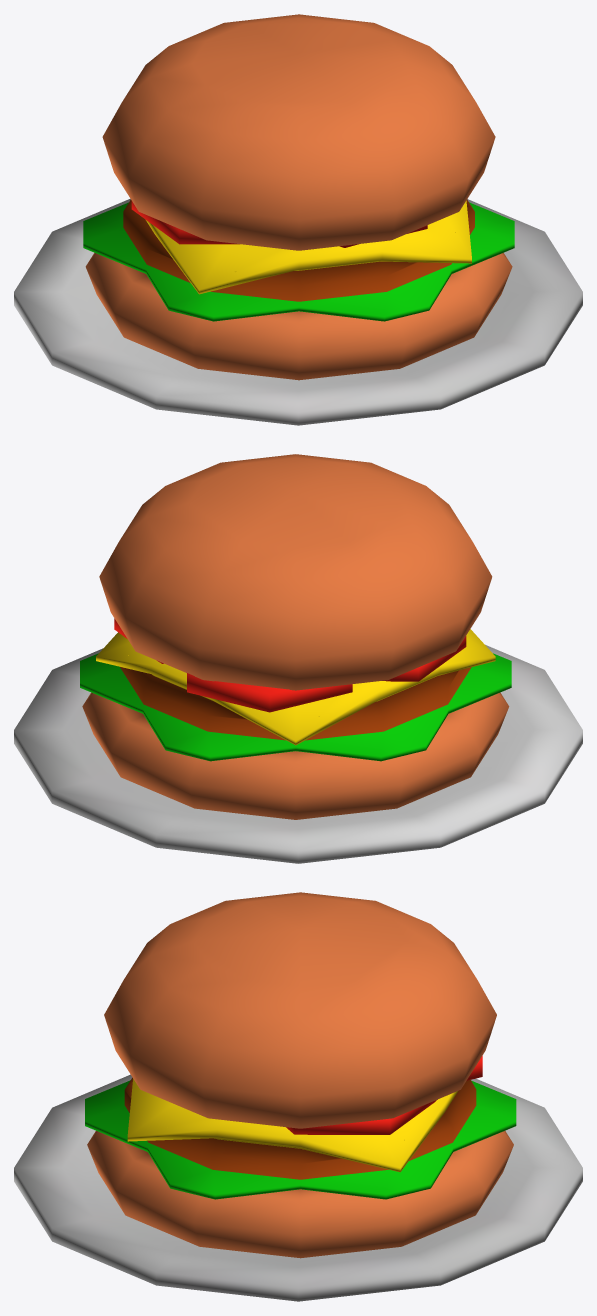
Rendered from Hamburguer.fbx.
3 renders of one model, top to bottom at view 1: azimuth 30°, elevation 25°; view 2: azimuth 150°, elevation 25°; view 3: azimuth 270°, elevation 25°, orthographic.
Parts seen in each view (by area): view 1: Hamburguer; view 2: Hamburguer; view 3: Hamburguer.
Boxes of the visible parts, <box> form: Hamburguer: <box>14,14,582,425</box>; Hamburguer: <box>14,454,582,863</box>; Hamburguer: <box>14,892,582,1301</box>.
Size of the model in its own units: 63.46 by 30.89 by 63.46.
